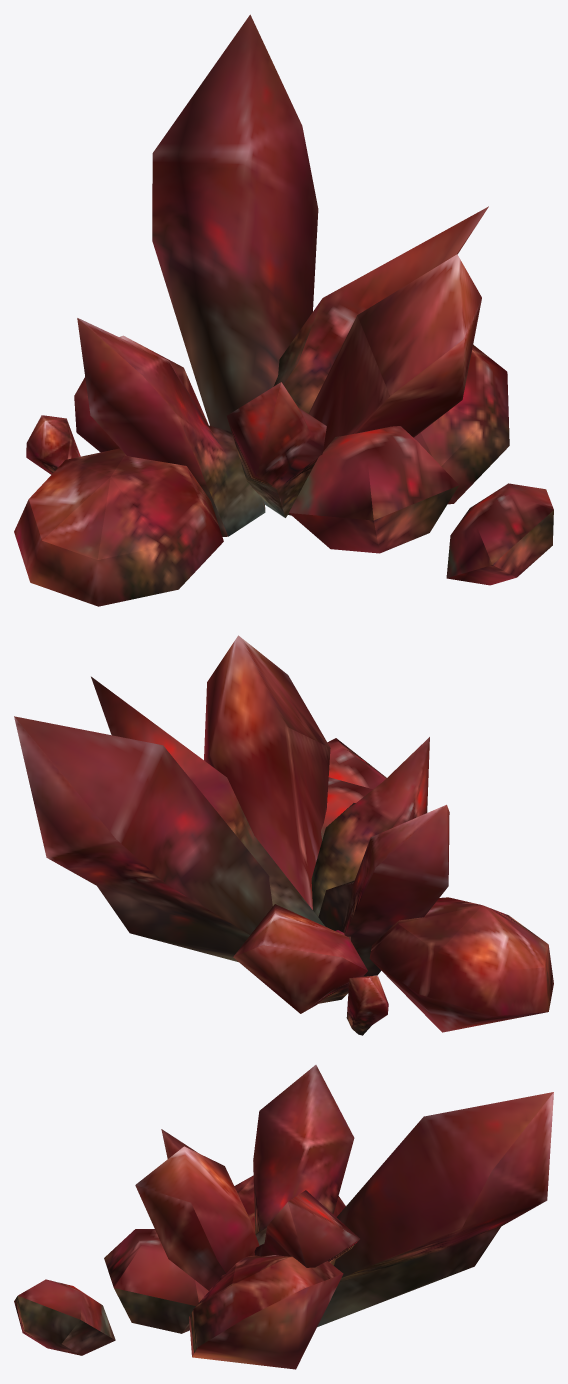
File: baoshikuang01_56_05_6852out.fbx
3 views of the same model, one above another, from view 1: azimuth 30°, elevation 25°; view 2: azimuth 150°, elevation 25°; view 3: azimuth 270°, elevation 25° (orthographic). The views are drawn at different scales.
Visible parts, largest first — view 1: baoshikuang01; view 2: baoshikuang01; view 3: baoshikuang01.
Boxes of the visible parts, x1=… form: baoshikuang01: x1=14, y1=14, x2=553, y2=606; baoshikuang01: x1=14, y1=635, x2=553, y2=1035; baoshikuang01: x1=14, y1=1065, x2=553, y2=1369.
Size of the model in its own units: 1.18 by 0.9244 by 1.41.
